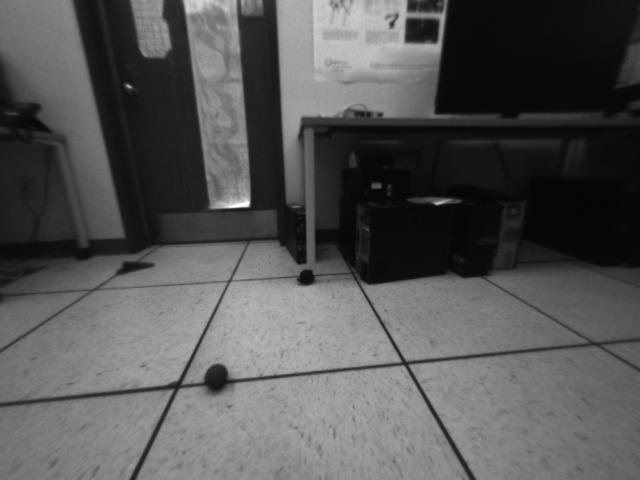dogtoy: (193, 354, 240, 398)
